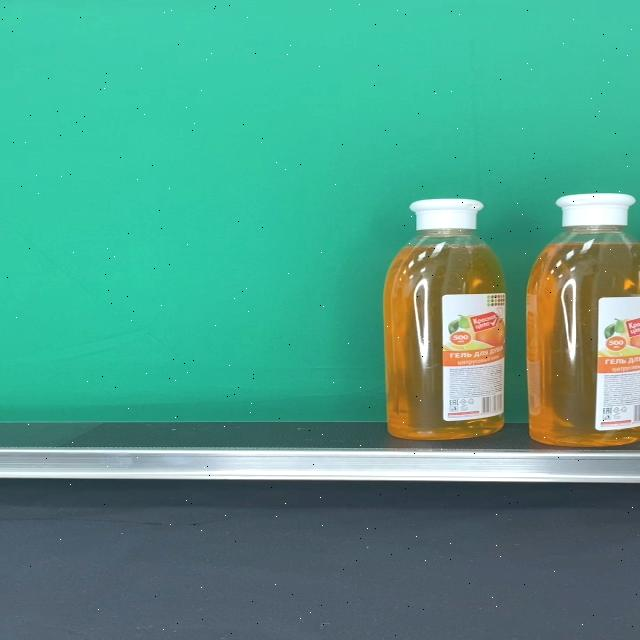Bottle: (386, 199, 506, 439), (528, 193, 640, 447)
Cap: (556, 194, 634, 227), (409, 200, 483, 230)
